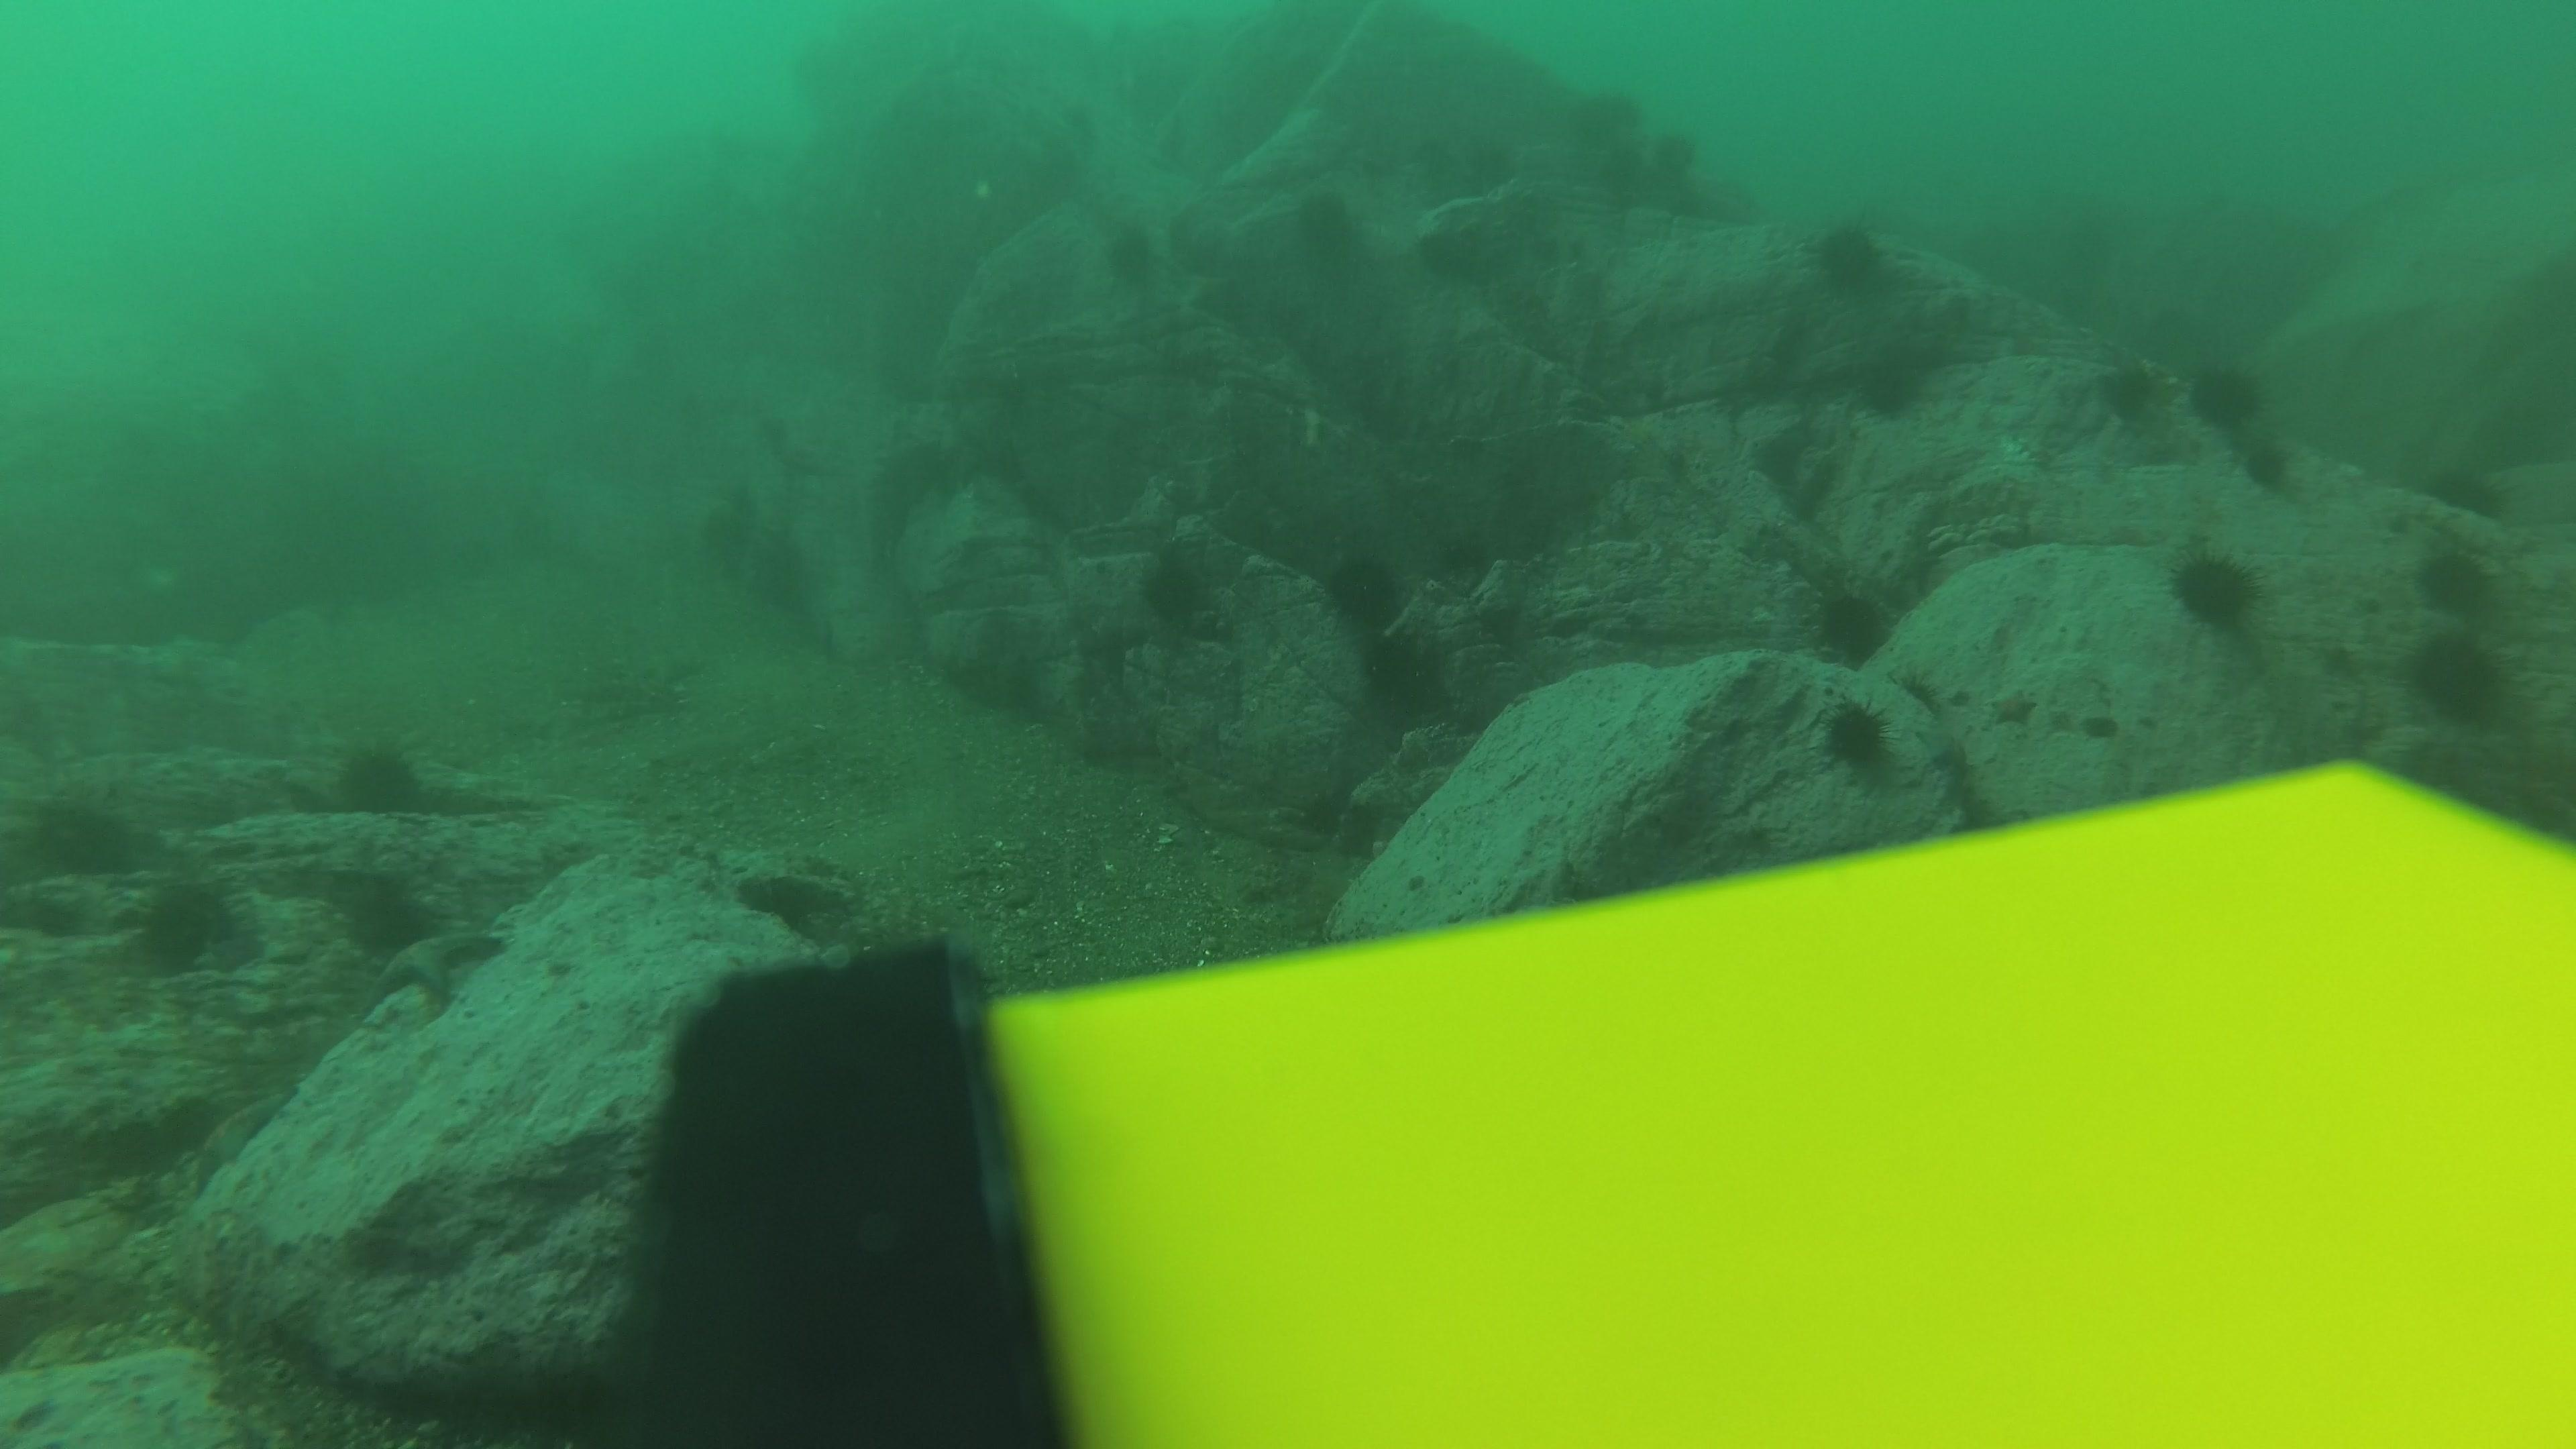echinus: (126, 870, 249, 977), (21, 786, 147, 885), (2403, 628, 2514, 729), (334, 870, 441, 962), (2164, 541, 2265, 633), (1357, 626, 1453, 718), (329, 736, 432, 821), (1316, 545, 1410, 635), (1813, 695, 1907, 786), (1132, 545, 1223, 635), (2410, 536, 2505, 621), (1805, 580, 1895, 669), (1805, 214, 1897, 299), (1284, 188, 1369, 272), (2185, 356, 2270, 433), (1851, 347, 1932, 423), (2091, 352, 2167, 430), (2420, 458, 2512, 522), (1099, 219, 1162, 292), (2235, 433, 2296, 494), (1576, 88, 1638, 142), (1610, 163, 1674, 209), (1654, 127, 1700, 173)
starfish: (364, 918, 511, 1012), (184, 1083, 297, 1182), (1989, 685, 2042, 732)
